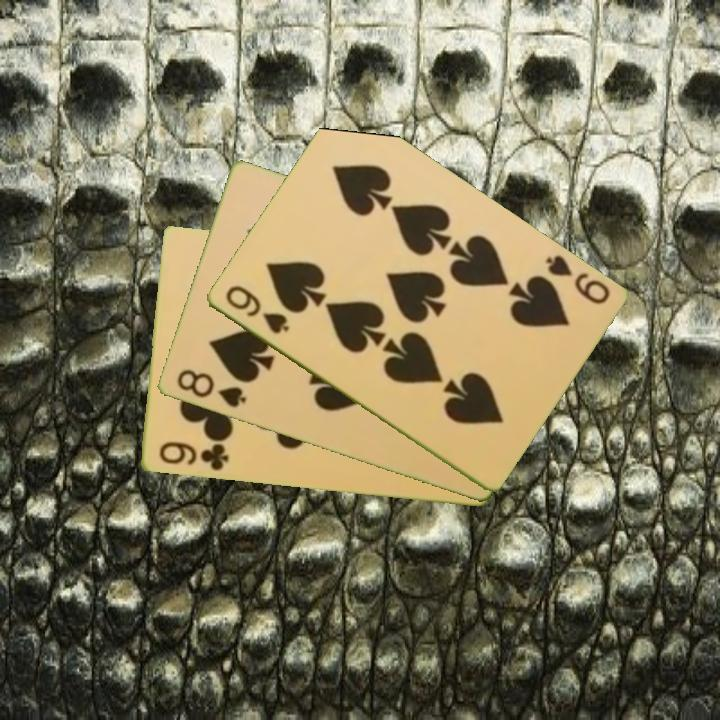8s: (173, 366, 249, 411)
9c: (155, 438, 231, 474)
9s: (541, 251, 613, 308), (221, 281, 292, 338)
